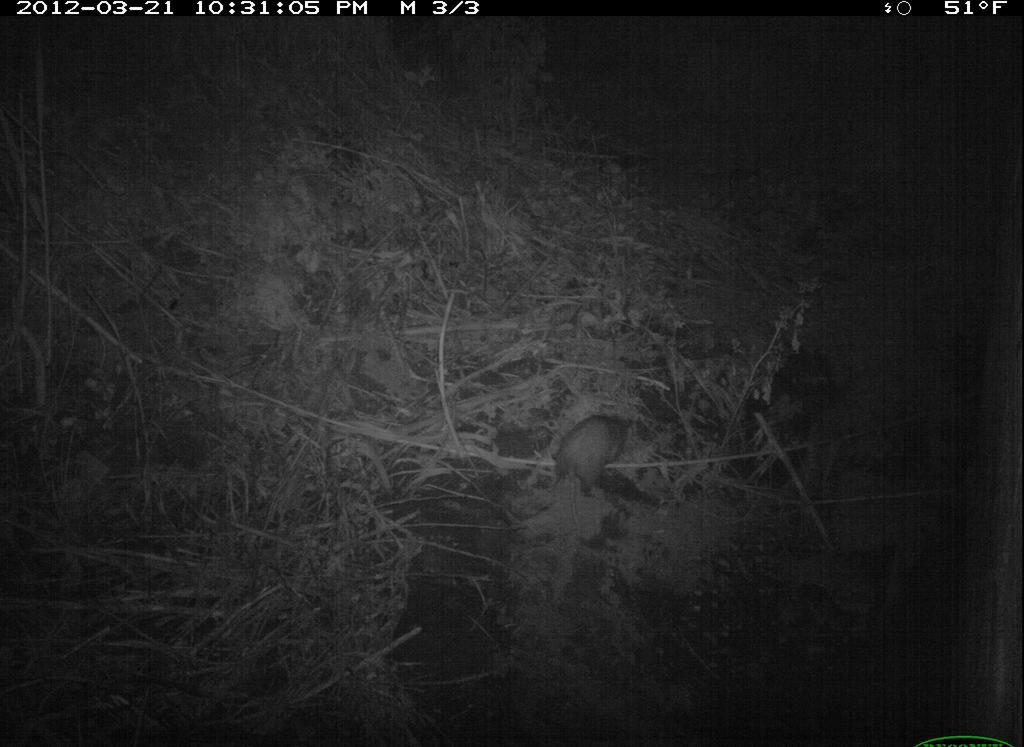opossum: (547, 406, 641, 520)
